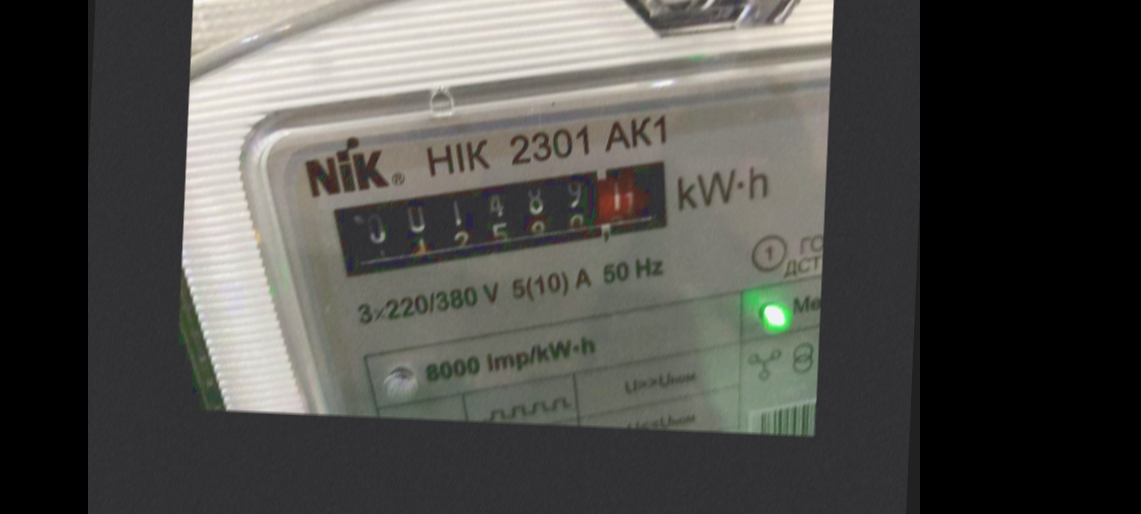0: (401, 199, 429, 236), (362, 211, 388, 247)
1: (605, 175, 626, 214), (445, 197, 467, 228)
4: (484, 188, 507, 220)
8: (524, 182, 546, 219)
9: (563, 178, 585, 210)
screen: (318, 137, 699, 304)
